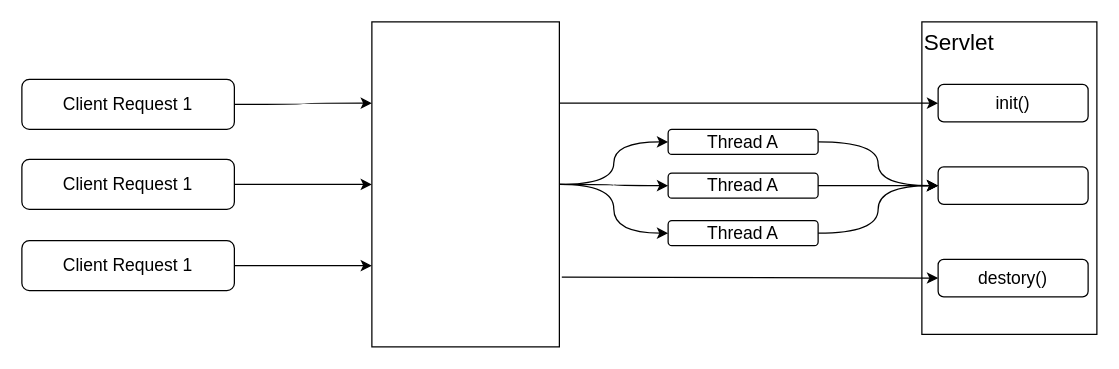
Image size: 1119x369. Some labels were removed from this diagram. The shapes that lost their labels are listed below. From the top down, each one's centre as x and y in pixels, then its label:
At [465,184]: "Servlet Container".
At [1012,185]: "service()".
